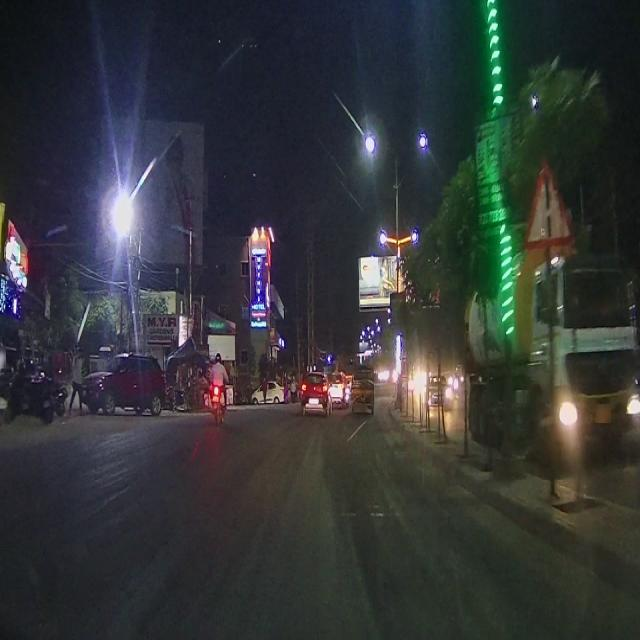gap-in-median: (524, 174, 572, 258)
